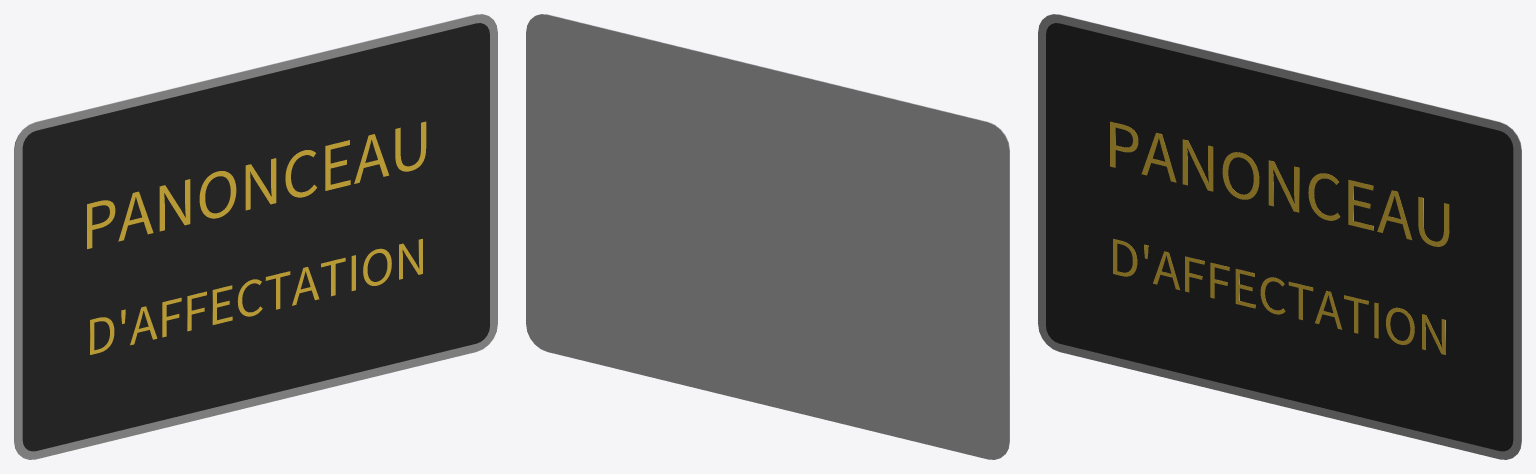
3 renders of one model, left to right at view 1: azimuth 30°, elevation 25°; view 2: azimuth 150°, elevation 25°; view 3: azimuth 330°, elevation 25°, orthographic.
Visible parts, largest first — view 1: XM3d_r01, XM3d_r00, XM3d_txt02, XM3d_txt03, XM3d_dos; view 2: XM3d_dos, XM3d_r00; view 3: XM3d_r01, XM3d_r00, XM3d_txt02, XM3d_txt03, XM3d_dos.
Boxes of the visible parts, box(x1,y1,x2,y2) form: XM3d_r01: box(22, 23, 489, 451); XM3d_r00: box(14, 14, 497, 459); XM3d_txt02: box(87, 121, 426, 248); XM3d_txt03: box(90, 239, 422, 354); XM3d_dos: box(14, 14, 487, 452); XM3d_dos: box(526, 14, 1009, 459); XM3d_r00: box(542, 14, 1009, 448); XM3d_r01: box(1046, 23, 1513, 451); XM3d_r00: box(1038, 14, 1521, 459); XM3d_txt02: box(1110, 121, 1449, 246); XM3d_txt03: box(1113, 239, 1445, 354); XM3d_dos: box(1048, 14, 1521, 452).
Bounding box in the file's own units: 0.9 × 0.6 × 0.0029.
